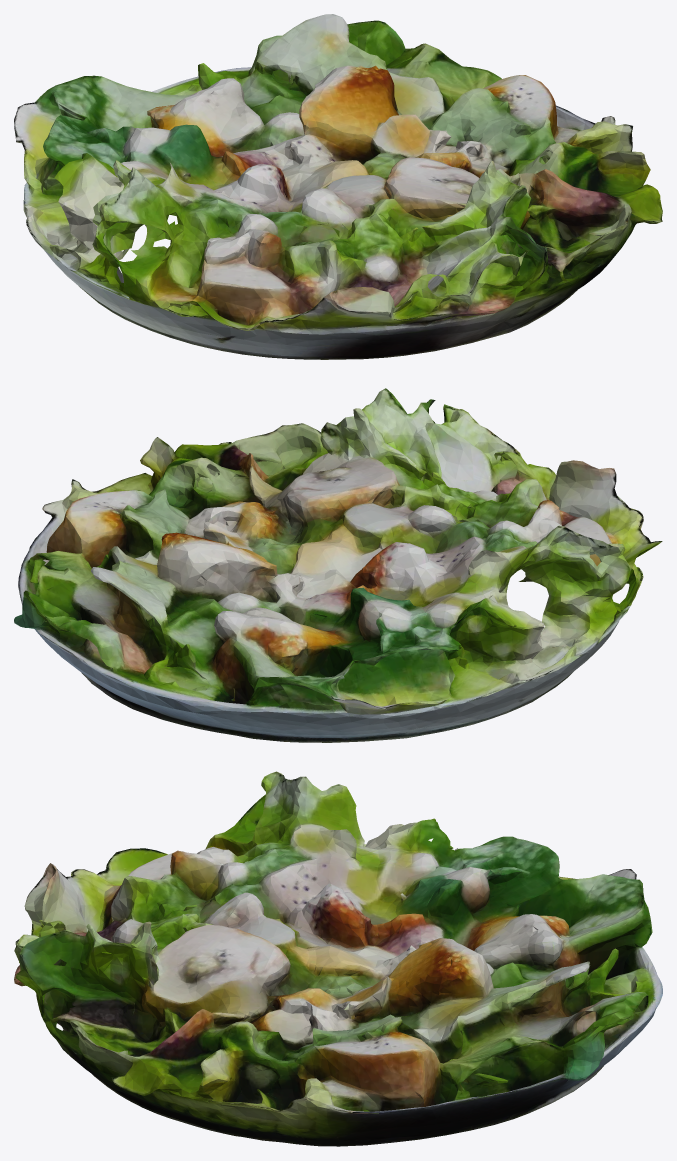
Rendered from garden-citrus-salad.glb.
The picture shows the model from 3 angles, top to bottom: view 1: azimuth 30°, elevation 25°; view 2: azimuth 150°, elevation 25°; view 3: azimuth 270°, elevation 25°; orthographic projection. The views are drawn at different scales.
Visible parts, largest first — view 1: world; view 2: world; view 3: world.
Boxes of the visible parts, left/top/right/bottom form: world: left=14, top=14, right=662, bottom=359; world: left=14, top=388, right=662, bottom=742; world: left=14, top=771, right=662, bottom=1146.
Bounding box in the file's own units: 0.9973 × 0.2814 × 0.9957.
1 material, 1 textured.
